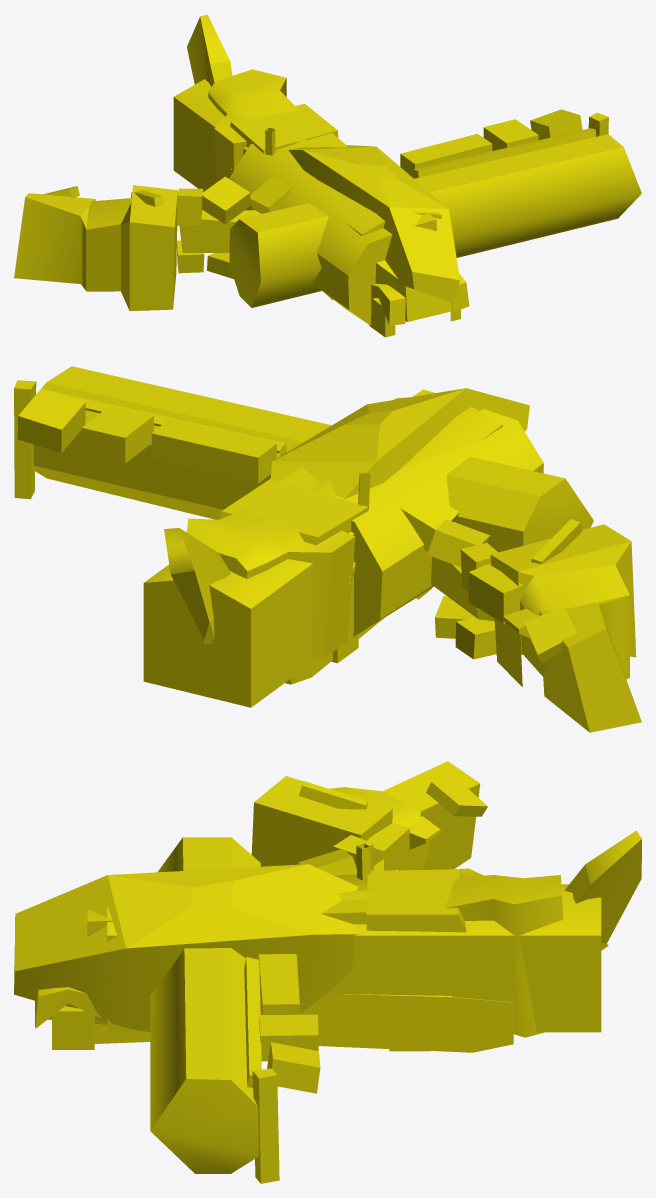
3 renders of one model, top to bottom at view 1: azimuth 30°, elevation 25°; view 2: azimuth 150°, elevation 25°; view 3: azimuth 270°, elevation 25°, orthographic. The views are drawn at different scales.
Parts seen in each view (by area): view 1: SA11_OilTrailer_L1, SA11_OilTrailer_L, SA11_Chopper_L, SA11_Bus_L, SA11_Truck_L; view 2: SA11_OilTrailer_L1, SA11_OilTrailer_L, SA11_Bus_L, SA11_Chopper_L, SA11_Truck_L, SA11_Tanker_L; view 3: SA11_OilTrailer_L1, SA11_Chopper_L, SA11_Bus_L, SA11_Tanker_L, SA11_OilTrailer_L, SA11_Truck_L.
Part boxes in pixels (x1,y1,x2,y2): SA11_OilTrailer_L1: (14,109,641,311); SA11_OilTrailer_L: (208,69,436,325); SA11_Chopper_L: (187,14,459,303); SA11_Bus_L: (173,79,469,337); SA11_Truck_L: (230,103,338,299); SA11_OilTrailer_L1: (14,366,641,732); SA11_OilTrailer_L: (186,389,543,657); SA11_Bus_L: (143,397,502,707); SA11_Chopper_L: (164,388,529,643); SA11_Truck_L: (219,473,431,657); SA11_Tanker_L: (285,618,383,684); SA11_OilTrailer_L1: (150,761,487,1183); SA11_Chopper_L: (14,830,641,1031); SA11_Bus_L: (34,884,601,1051); SA11_Tanker_L: (300,993,513,1052); SA11_OilTrailer_L: (87,868,563,1043); SA11_Truck_L: (356,843,466,932).
Size of the model in its own units: 1923 by 516 by 1502.
